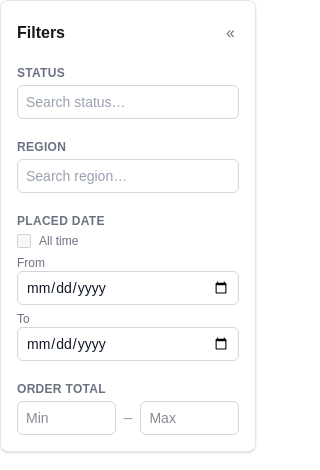
Scenario: FilterSidebar › shows the empty text when no regions are loaded
Click the dropdown with test id "filter-region-search": (128, 176) [17, 159, 239, 193]
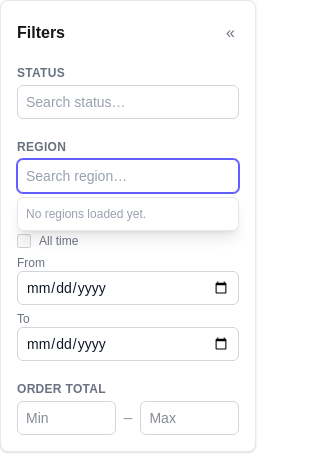
Expected: the text "No regions loaded yet." is shown, [26, 207, 146, 221]
